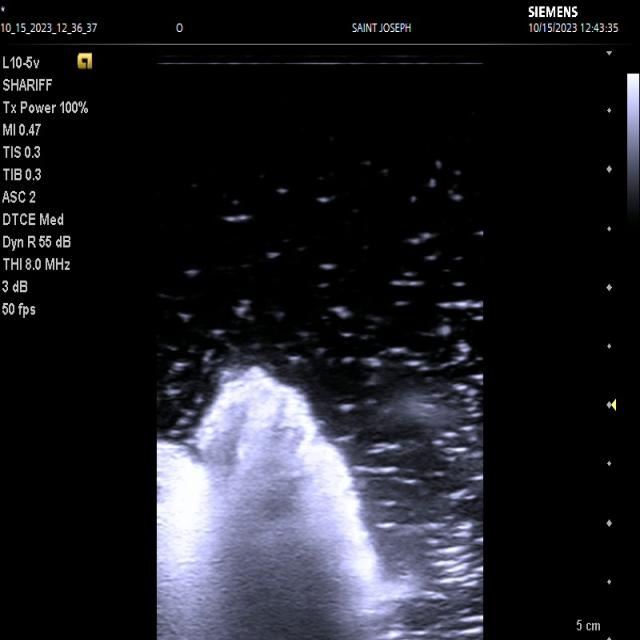tissue: (158, 366, 406, 640)
